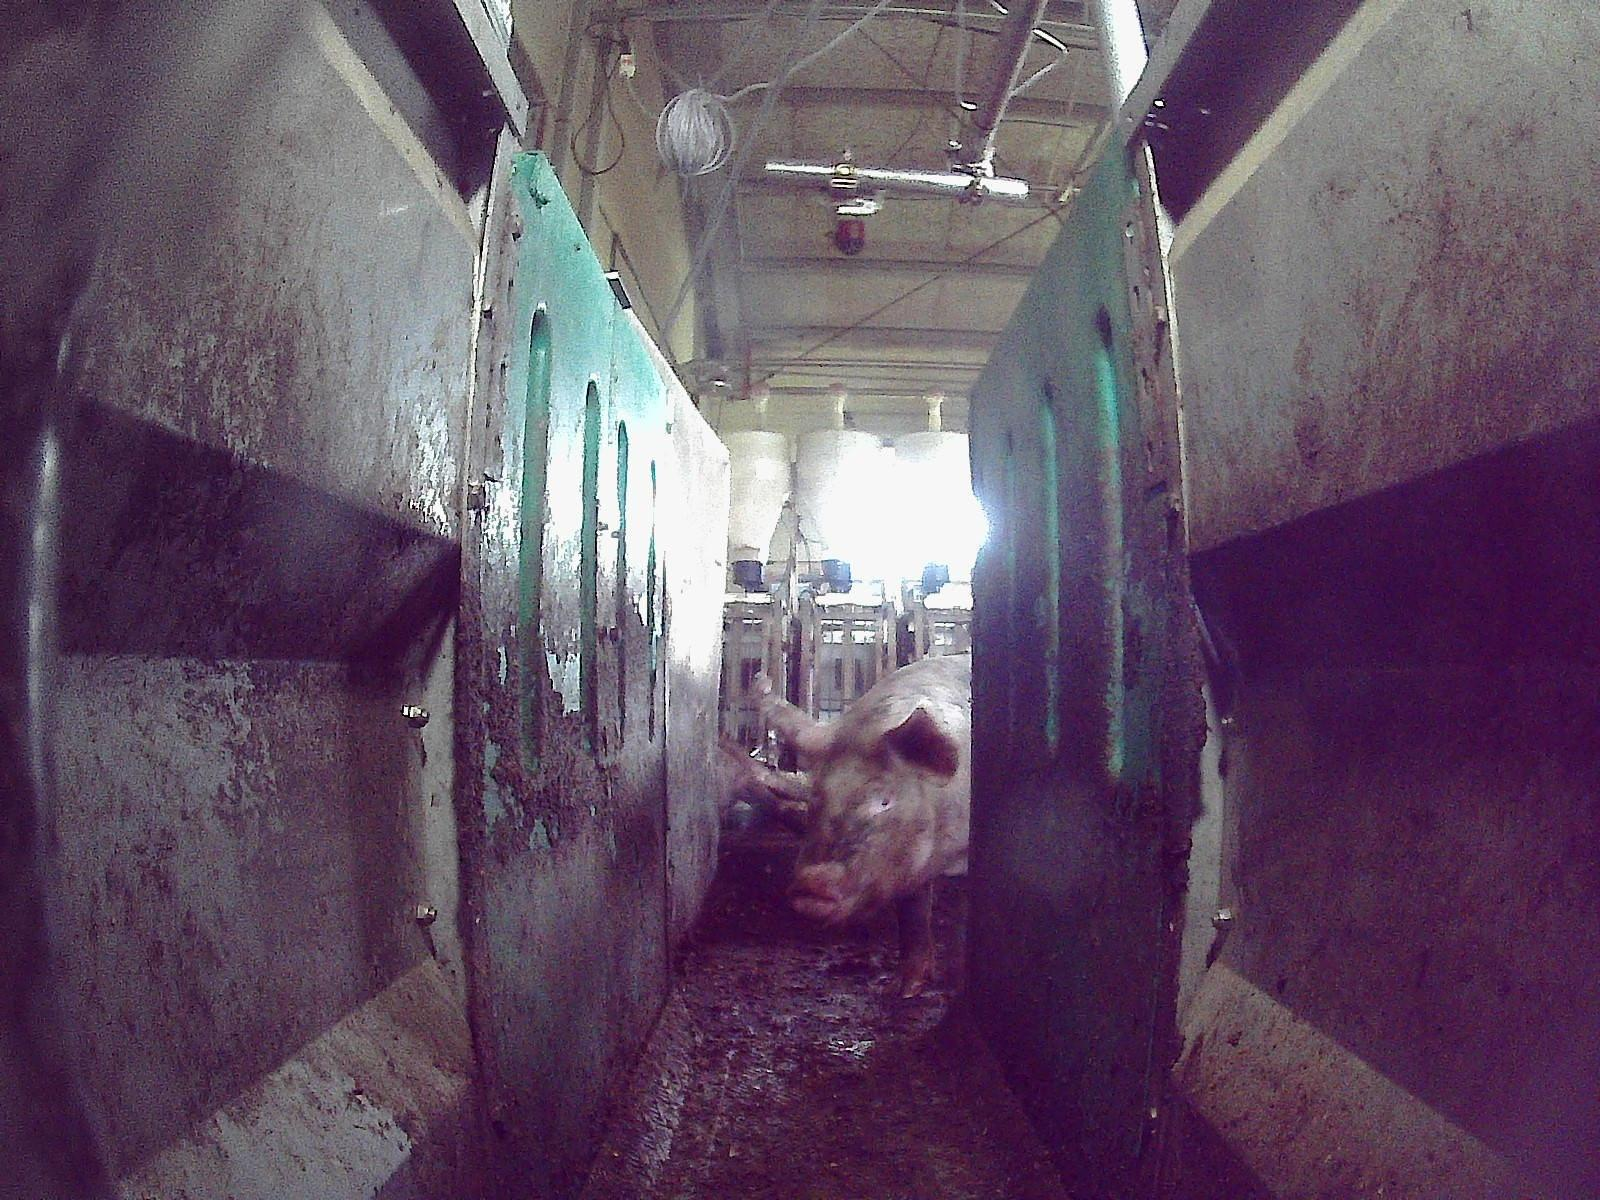Face: (788, 718, 933, 923)
